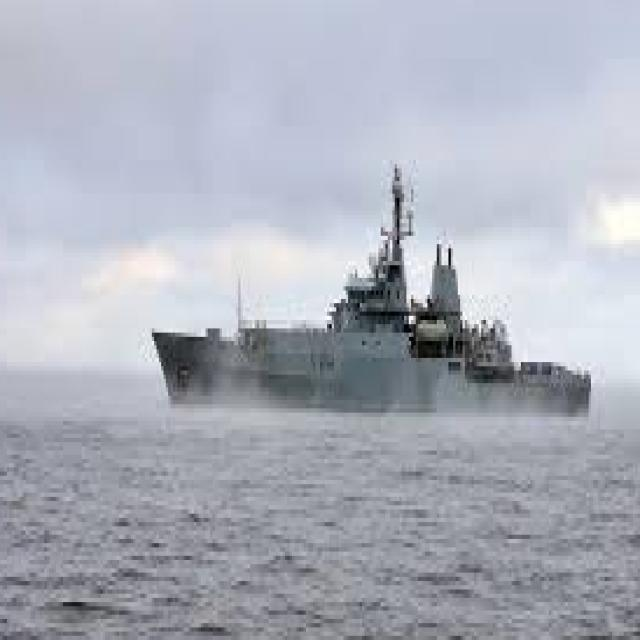navalvessels: (141, 148, 595, 424)
